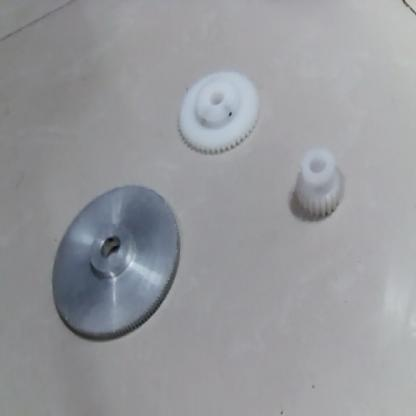FOD: (46, 180, 188, 348), (174, 67, 264, 150), (291, 137, 345, 230)
